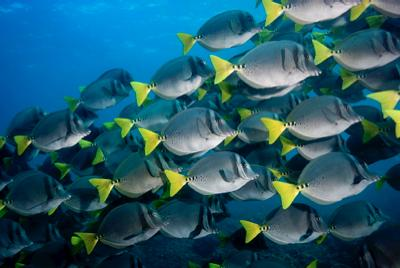Acanthuridae -Surgeonfishes-: (272, 151, 381, 210), (210, 36, 321, 86), (259, 93, 365, 145), (73, 200, 169, 255), (137, 107, 242, 153), (94, 149, 182, 201), (164, 150, 259, 197), (237, 200, 332, 245), (13, 110, 91, 156), (318, 200, 392, 248), (313, 27, 399, 68), (132, 54, 215, 95), (175, 9, 262, 47), (0, 171, 76, 214), (148, 197, 222, 236), (220, 161, 288, 201), (265, 0, 364, 27), (0, 101, 52, 146), (63, 76, 133, 109)
